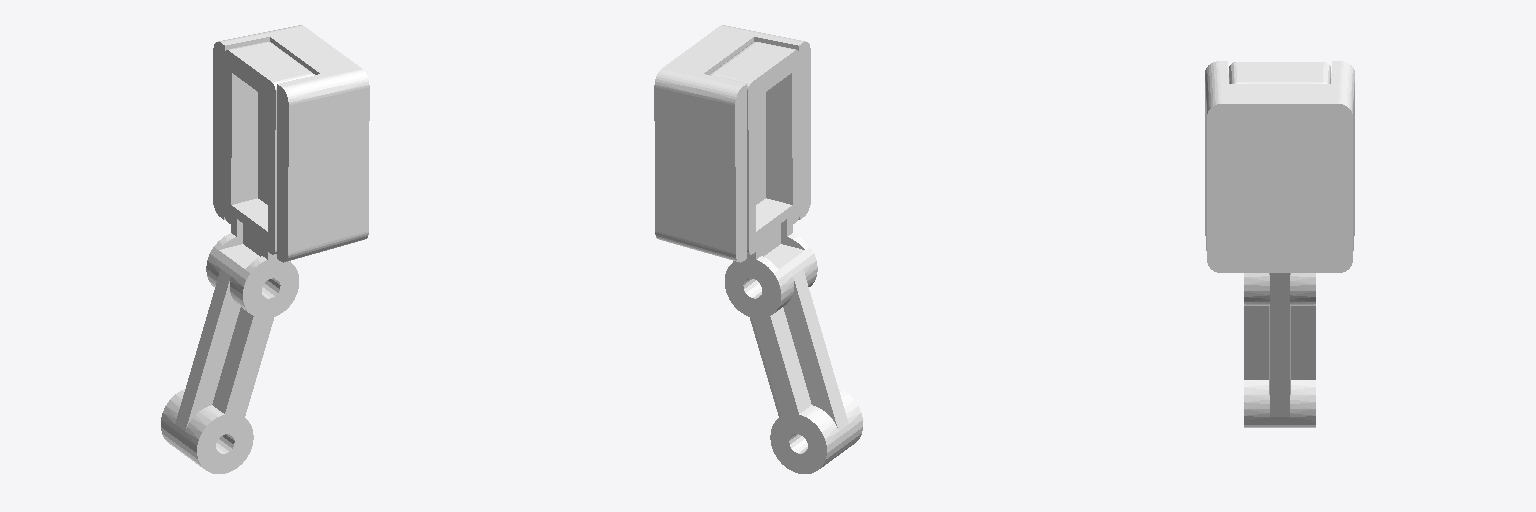
Rendered from gripper_left1.obj.
3 views of the same model, side by side, from view 1: azimuth 30°, elevation 25°; view 2: azimuth 150°, elevation 25°; view 3: azimuth 270°, elevation 25° (orthographic).
Visible parts, largest first — view 1: gripper_left1; view 2: gripper_left1; view 3: gripper_left1.
Boxes of the visible parts, <box> form: gripper_left1: <box>161,25,369,473</box>; gripper_left1: <box>654,25,862,473</box>; gripper_left1: <box>1205,61,1354,427</box>.
Size of the model in its own units: 0.0244 by 0.0582 by 0.0207.